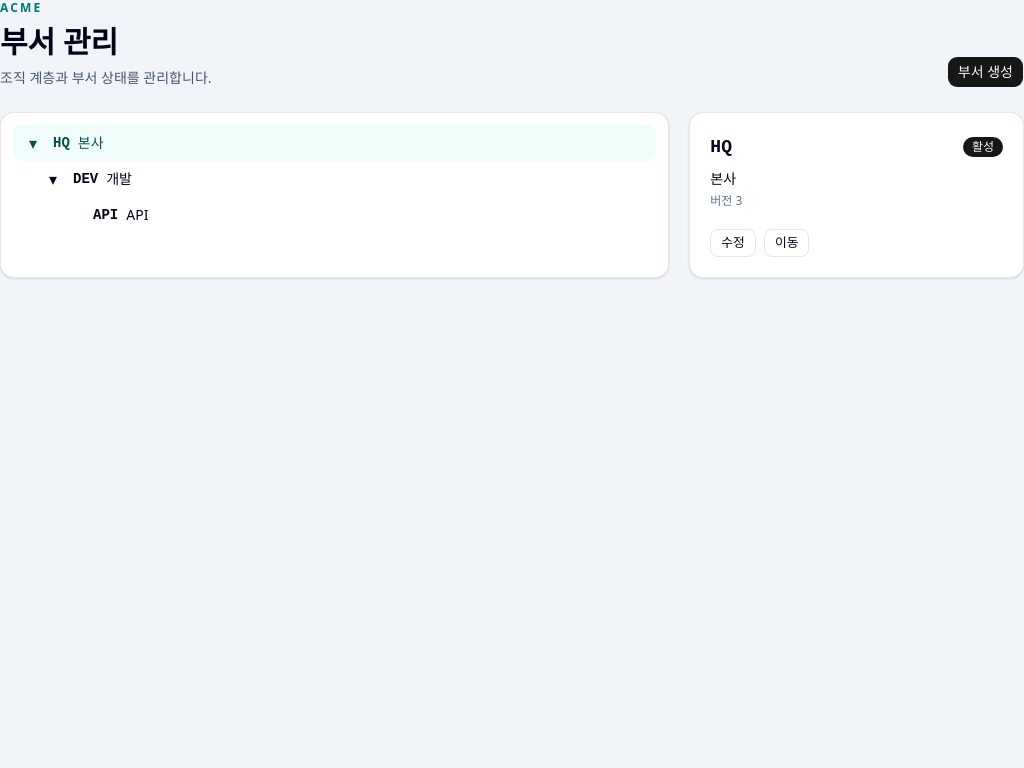
Test: closes a stale department form and refetches the latest version after an optimistic conflict
Click the list item "▾ DEV 개발 API API" at (86, 179), box [41, 167, 148, 224]
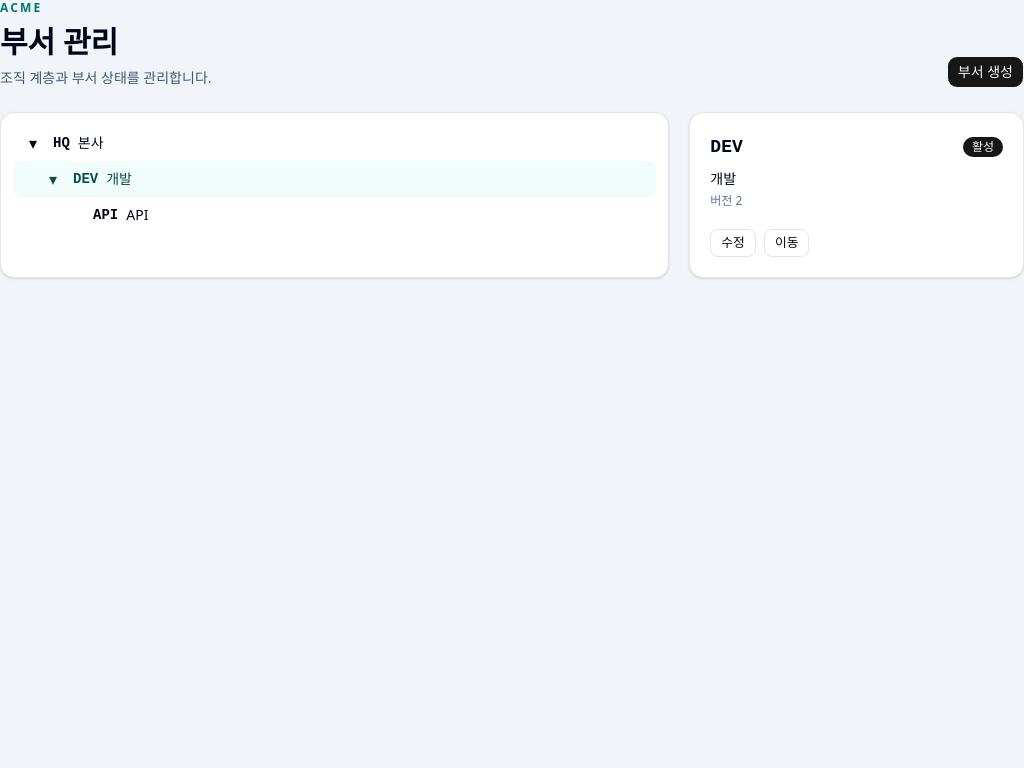
Click the button with aria-label "DEV 수정" at (733, 243), box [710, 229, 756, 257]
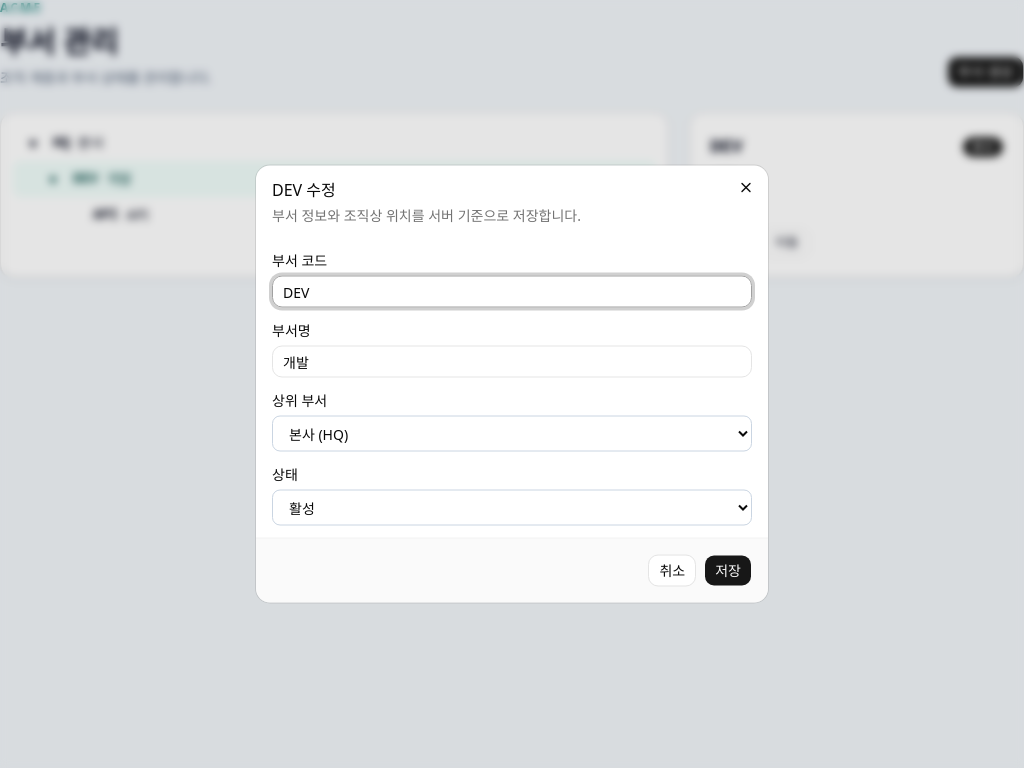
Replace the text in the field labelled "부서명" with "내 수정" at (512, 362), box [272, 346, 752, 378]
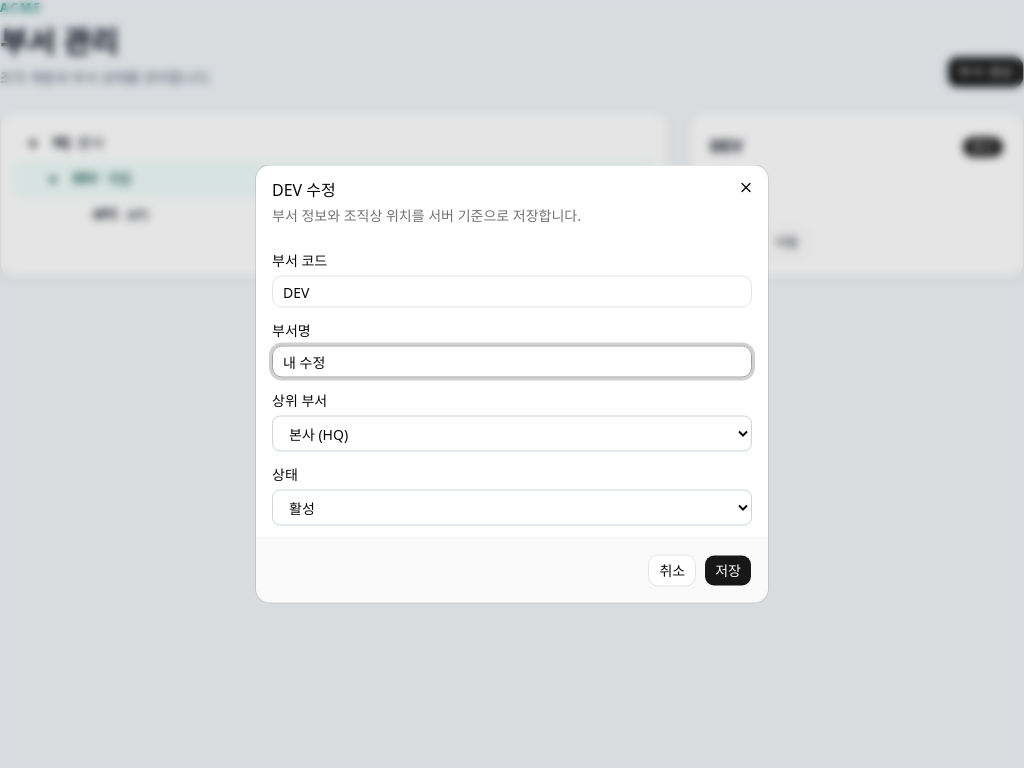
Click the button "저장" at (728, 570), box [704, 554, 752, 586]
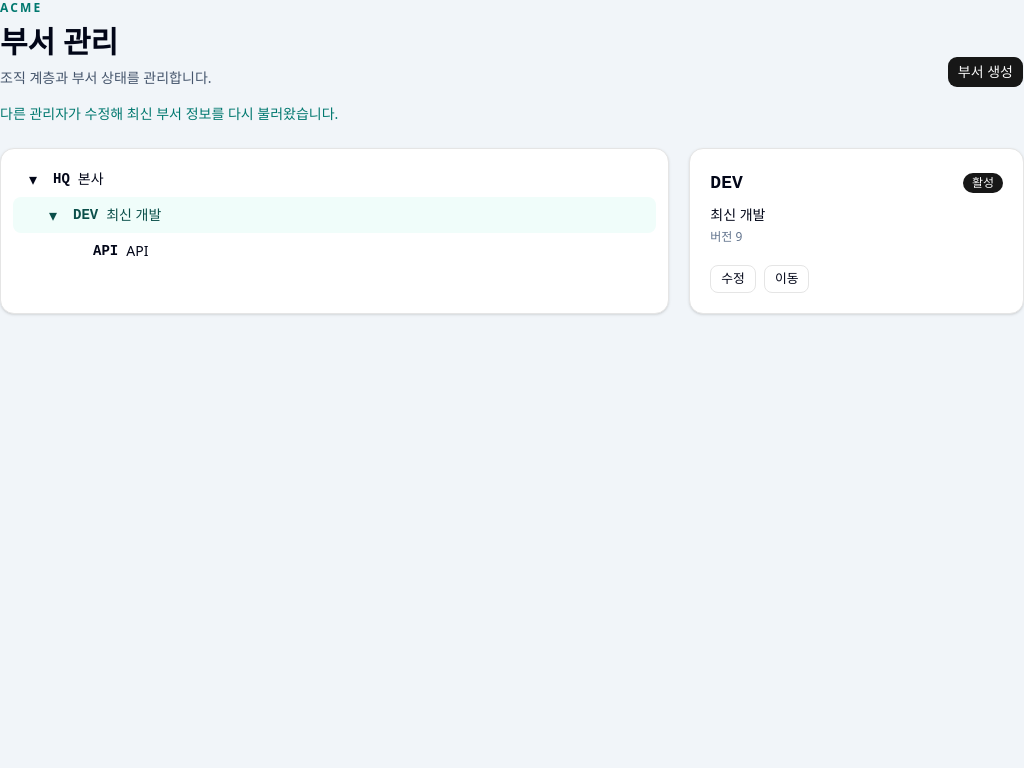
Expected: the text "다른 관리자가 수정해 최신 부서 정보를 다시 불러왔습니다." is shown, [0, 104, 338, 123]
Expected: the list item "DEV 최신 개발" is shown, [13, 197, 656, 269]
Expected: the heading "DEV 수정" is gone
